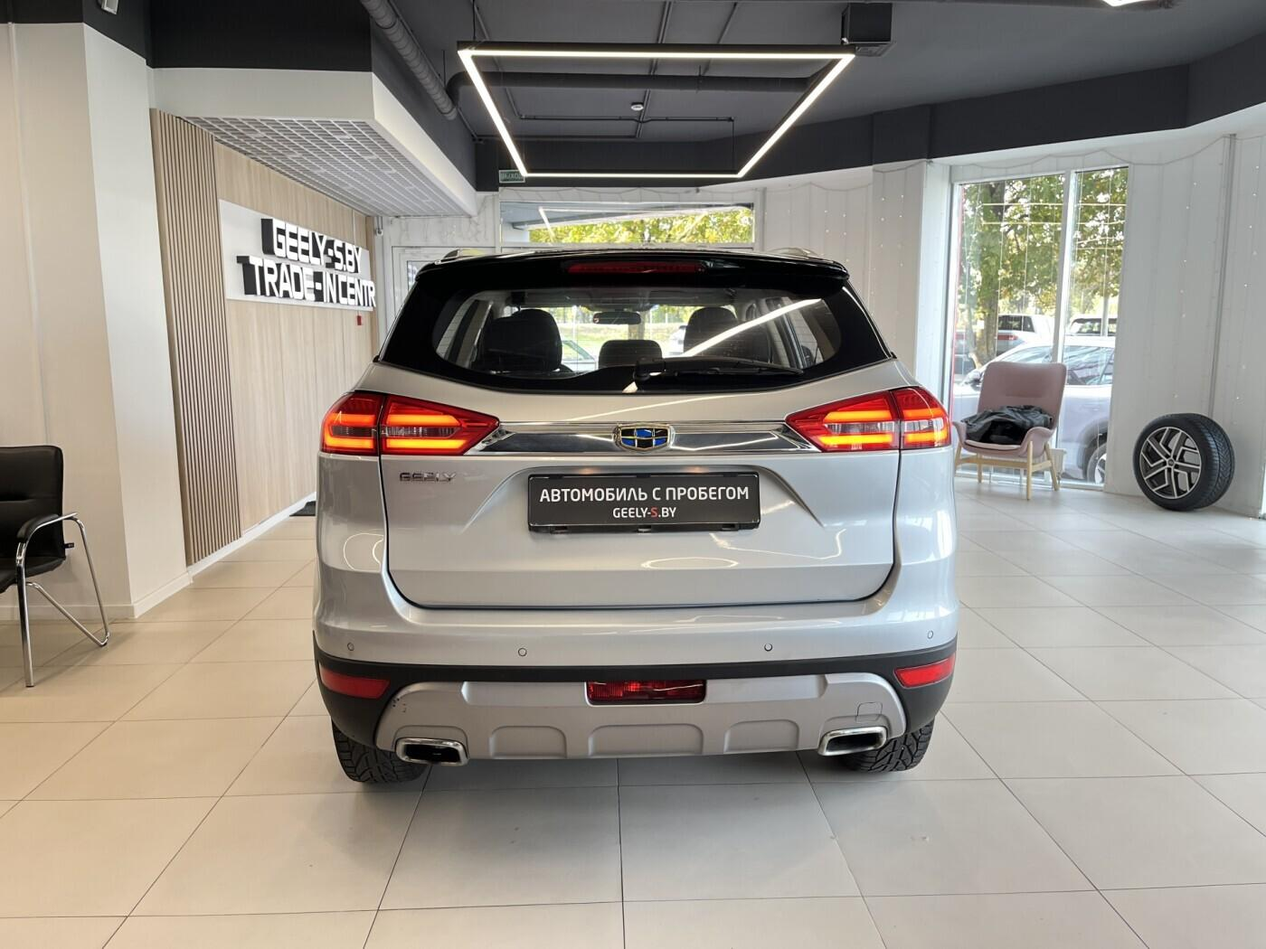Atlas_2016-2023: (305, 241, 969, 793)
